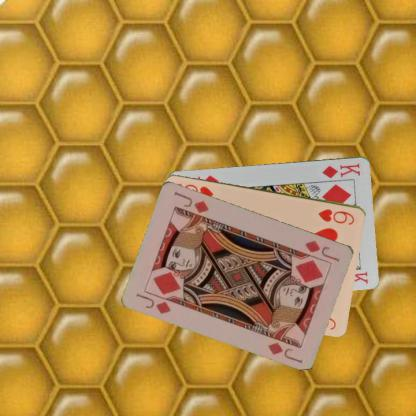6h: (315, 206, 356, 226)
Jd: (134, 290, 174, 316), (303, 237, 341, 263)
Kd: (320, 160, 362, 179)
